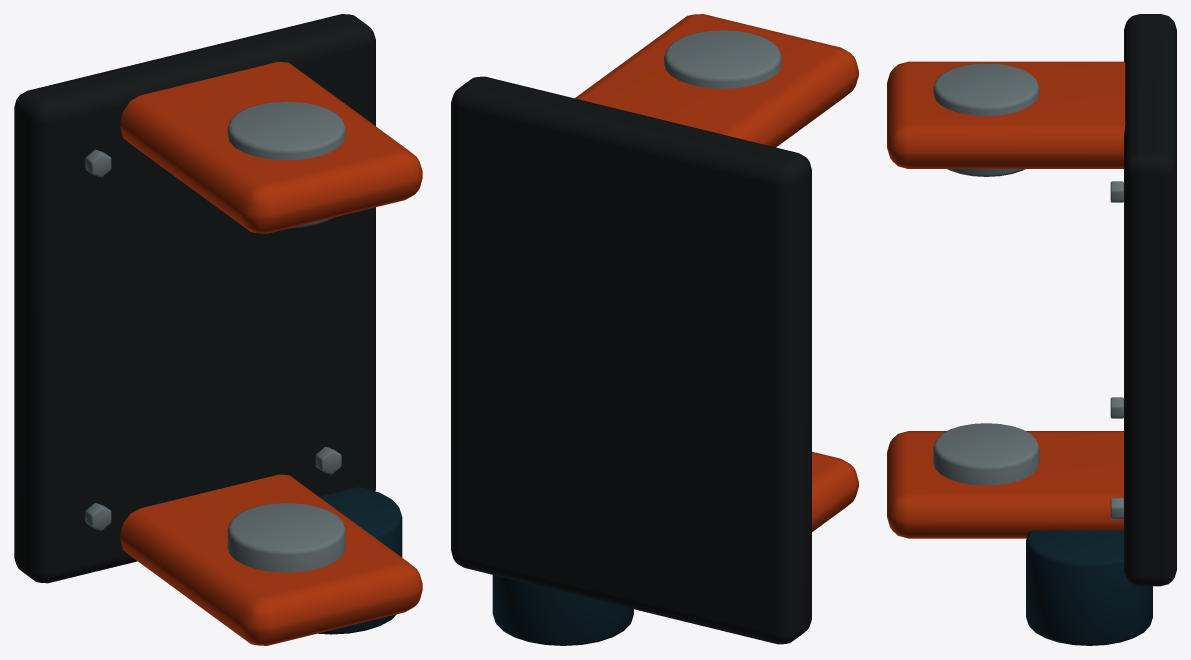
The model's file is SM_WinchBase.obj.
3 views of the same model, side by side, from view 1: azimuth 30°, elevation 25°; view 2: azimuth 150°, elevation 25°; view 3: azimuth 270°, elevation 25° (orthographic). The views are drawn at different scales.
Parts seen in each view (by area): view 1: SM_WinchBase; view 2: SM_WinchBase; view 3: SM_WinchBase.
Part boxes in pixels (x1,y1,x2,y2): SM_WinchBase: [14, 14, 422, 645]; SM_WinchBase: [451, 14, 858, 645]; SM_WinchBase: [887, 14, 1176, 645].
Bounding box in the file's own units: 135 × 205 × 110.
